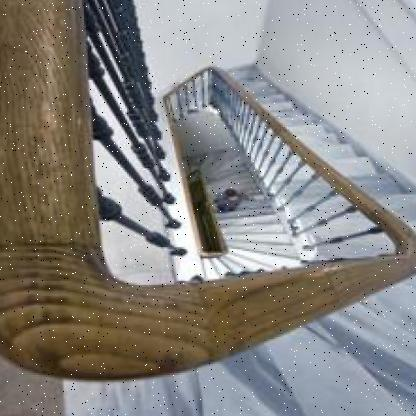stair_down: (257, 213, 412, 394)
